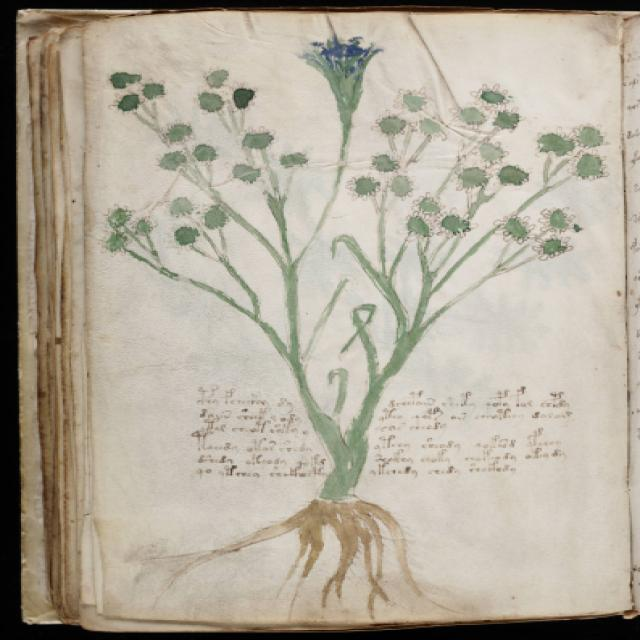plant: (91, 35, 621, 624)
